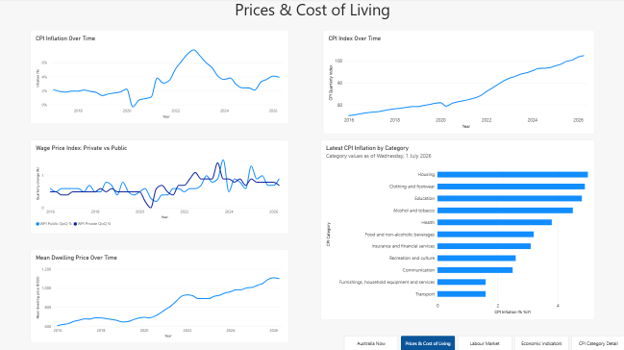

This screenshot's page, from the dashboard's own definition file:
{"tool":"powerbi","page":{"name":"Prices & Cost of Living","canvas":[1920,1080],"ordinal":1},"visuals":[{"type":"textbox","box":[0,0,1920,120],"z":0},{"type":"lineChart","title":"CPI Inflation Over Time","fields":{"Category":["DimDate.Date"],"Y":["CPI_from2016.CPI YoY %"]},"box":[96,96,792,288],"z":1000},{"type":"lineChart","title":"CPI Index Over Time","fields":{"Category":["DimDate.Date"],"Y":["CPI_from2016.CPI Quarterly Index"]},"box":[992,96,832,320],"z":2000},{"type":"lineChart","title":"Wage Price Index: Private vs Public","fields":{"Category":["DimDate.Date"],"Y":["WPI.WPI Public QoQ %","WPI.WPI Private QoQ %"]},"box":[96,432,792,288],"z":3000},{"type":"lineChart","title":"Mean Dwelling Price Over Time","fields":{"Category":["DimDate.Date"],"Y":["Dwellings.Mean Dwelling Price"]},"box":[96,768,792,288],"z":4000},{"type":"clusteredBarChart","title":"Latest CPI Inflation by Category","fields":{"Category":["CPI.Parent Category"],"Y":["CPI.Latest CPI Category YoY %"]},"box":[984,432,840,552],"z":5000},{"type":"pageNavigator","box":[1056,1032,864,48],"z":6000}]}

Visuals, with their boxes on the page's 1920x1080 design canvas (x1, y1, x2, y2). These are canvas units, not pixel positions in the 624x350 screenshot, which may show the page scaled, cropped or inside an application window:
textbox: (x1=0, y1=0, x2=1920, y2=120)
"CPI Inflation Over Time" lineChart: (x1=96, y1=96, x2=888, y2=384)
"CPI Index Over Time" lineChart: (x1=992, y1=96, x2=1824, y2=416)
"Wage Price Index: Private vs Public" lineChart: (x1=96, y1=432, x2=888, y2=720)
"Mean Dwelling Price Over Time" lineChart: (x1=96, y1=768, x2=888, y2=1056)
"Latest CPI Inflation by Category" clusteredBarChart: (x1=984, y1=432, x2=1824, y2=984)
pageNavigator: (x1=1056, y1=1032, x2=1920, y2=1080)
